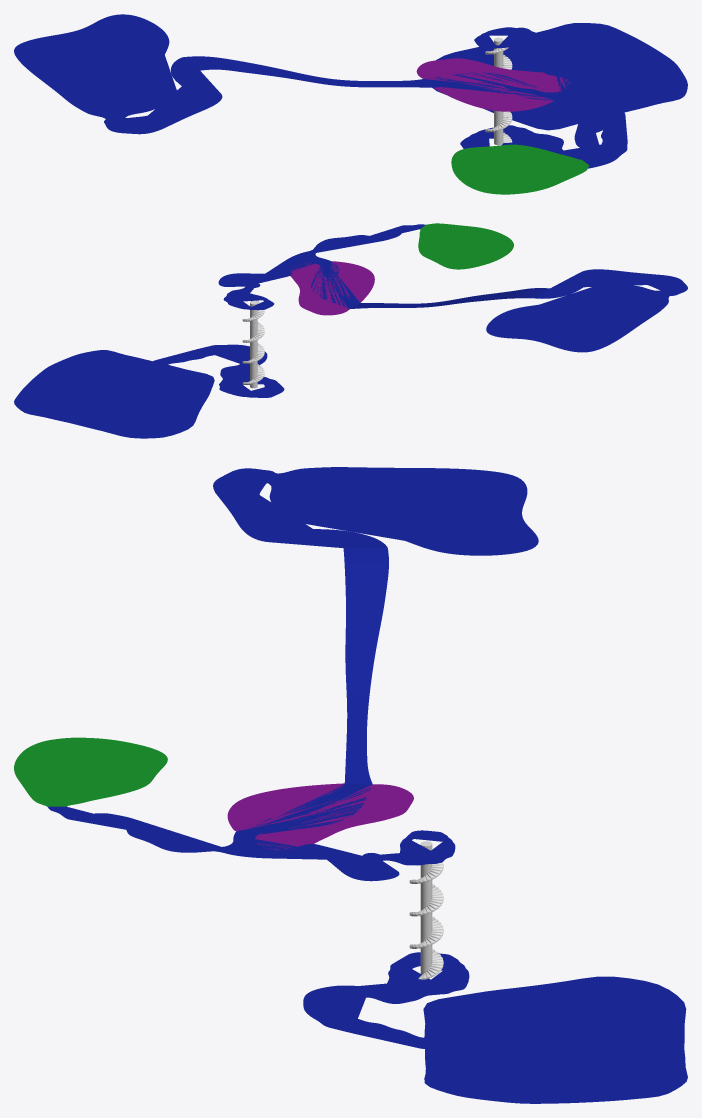
The model's file is Dungeon-Layout-V1.fbx.
3 renders of one model, top to bottom at view 1: azimuth 30°, elevation 25°; view 2: azimuth 150°, elevation 25°; view 3: azimuth 270°, elevation 25°, orthographic. The views are drawn at different scales.
Parts seen in each view (by area): view 1: Dungeon Floor Layout (Top Floor), Dungeon Floor Layout (Floor 2), Stairs Model.001; view 2: Dungeon Floor Layout (Top Floor), Dungeon Floor Layout (Floor 2), Stairs Model.001; view 3: Dungeon Floor Layout (Top Floor), Dungeon Floor Layout (Floor 2), Stairs Model.001.
Part boxes in pixels (x1,y1,x2,y2): Dungeon Floor Layout (Top Floor): (14,14,613,194); Dungeon Floor Layout (Floor 2): (432,23,687,168); Stairs Model.001: (485,37,512,145); Dungeon Floor Layout (Top Floor): (218,223,687,352); Dungeon Floor Layout (Floor 2): (14,344,284,438); Stairs Model.001: (242,300,264,388); Dungeon Floor Layout (Top Floor): (14,467,538,881); Dungeon Floor Layout (Floor 2): (303,952,687,1103); Stairs Model.001: (409,841,443,979).
Size of the model in its own units: 21330 by 5369 by 14673.
